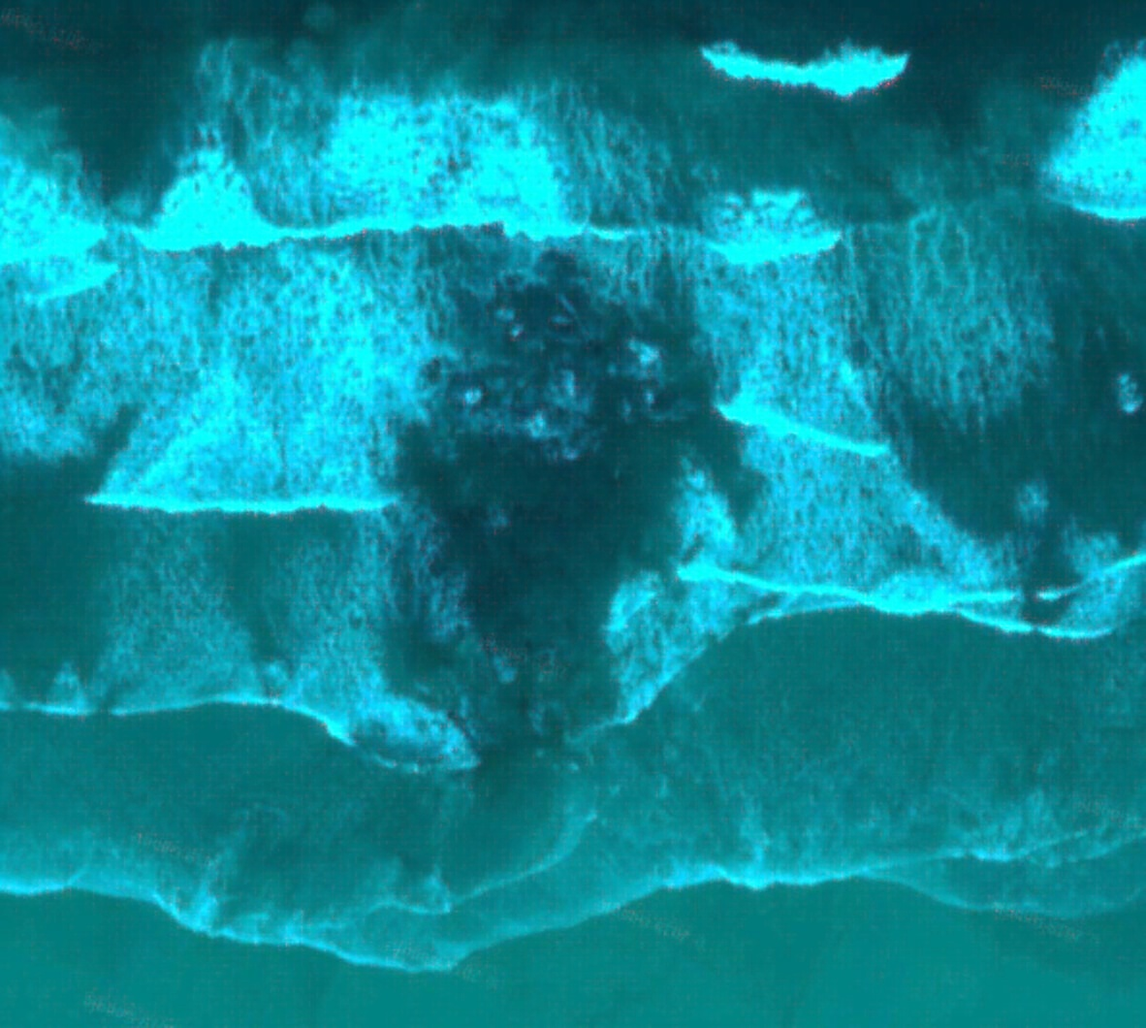rip_current: (320, 180, 780, 859)
